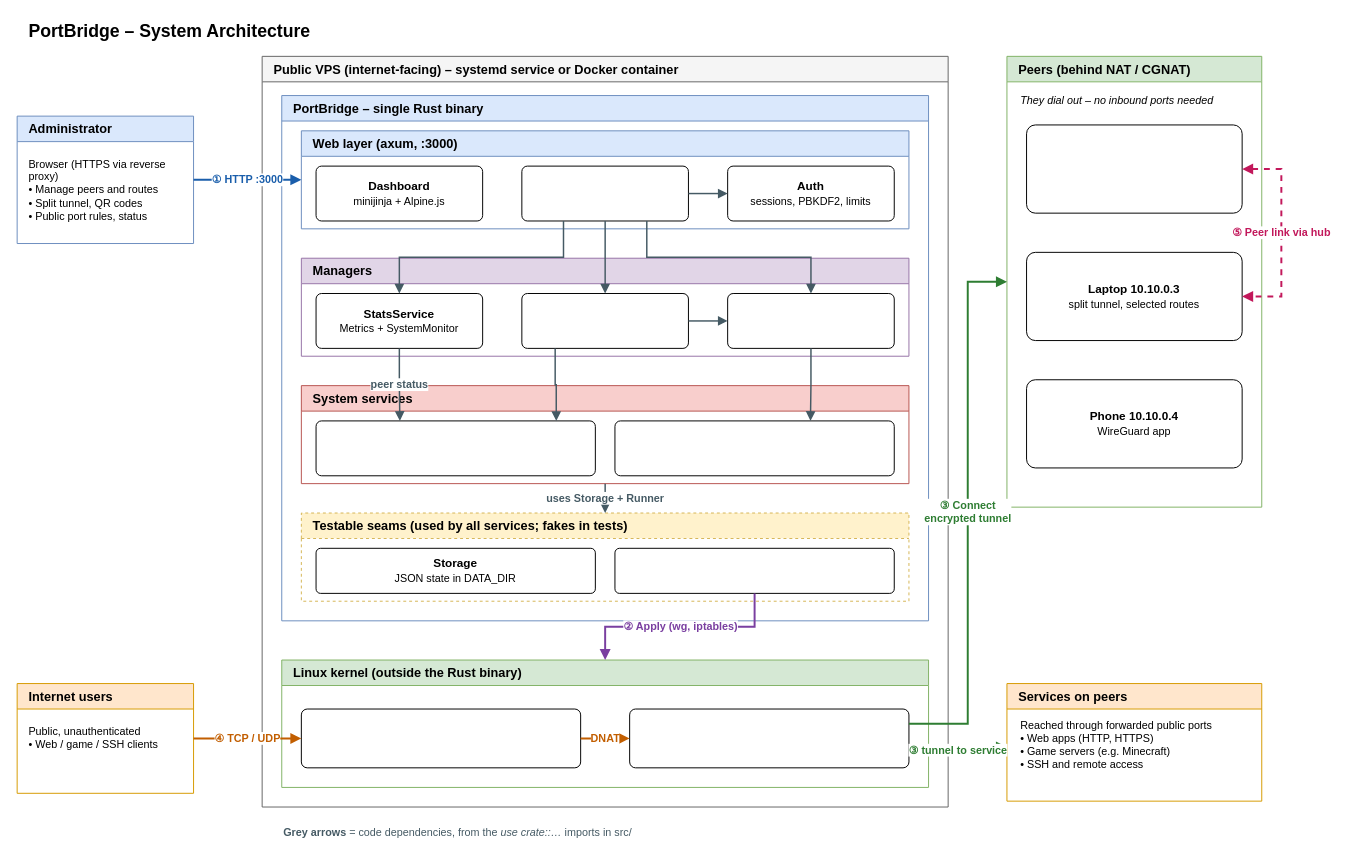
Image size: 1348x860. Some labels were removed from this diagram. The shapes that lost their labels are listed below. From the top down, each one's centre as x and y in pixels, then its label:
At (1134,168): "Home server 10.10.0.2 shares 192.168.1.0/24".
At (604,193): "JSON API axum router, headers".
At (604,320): "ClientManager peers, routes, QR".
At (810,320): "ForwardingManager port rules, conflicts".
At (455,448): "WireGuardService server keys, wg config, peer status".
At (754,448): "IPTables + RuleRenderer DNAT / FORWARD rules, default-drop".
At (754,570): "Runner wg, wg-quick, iptables-restore".
At (440,738): "Netfilter (iptables) NAT, filter, MASQUERADE".
At (769,738): "WireGuard interface pb0 UDP 51820, one key pair per peer".
